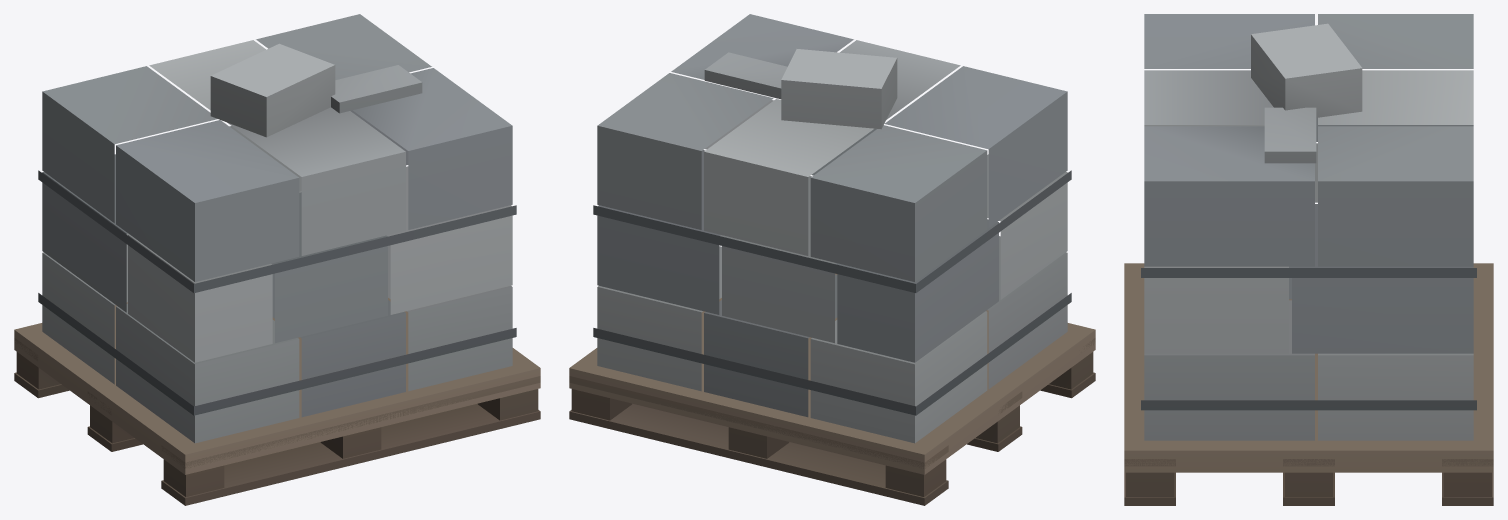
Rendered from pallet.lod1.glb.
3 renders of one model, left to right at view 1: azimuth 30°, elevation 25°; view 2: azimuth 150°, elevation 25°; view 3: azimuth 270°, elevation 25°, orthographic. The views are drawn at different scales.
Size of the model in its own units: 1.2 by 1.07 by 1.
